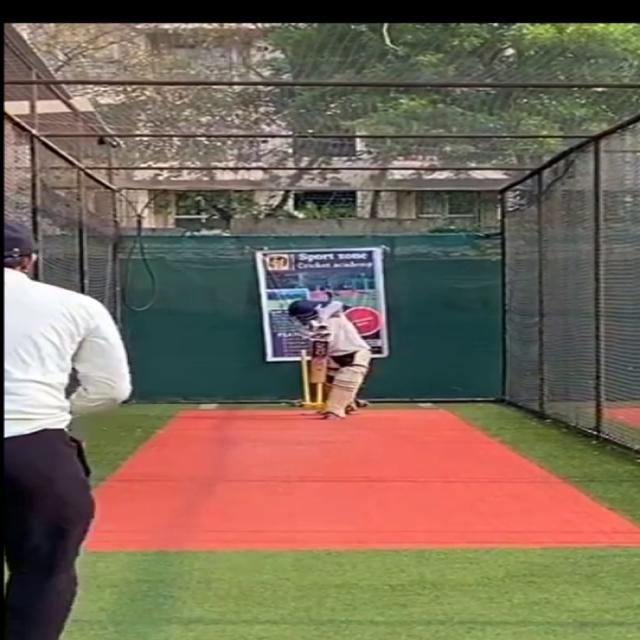stump: (295, 348, 326, 406)
